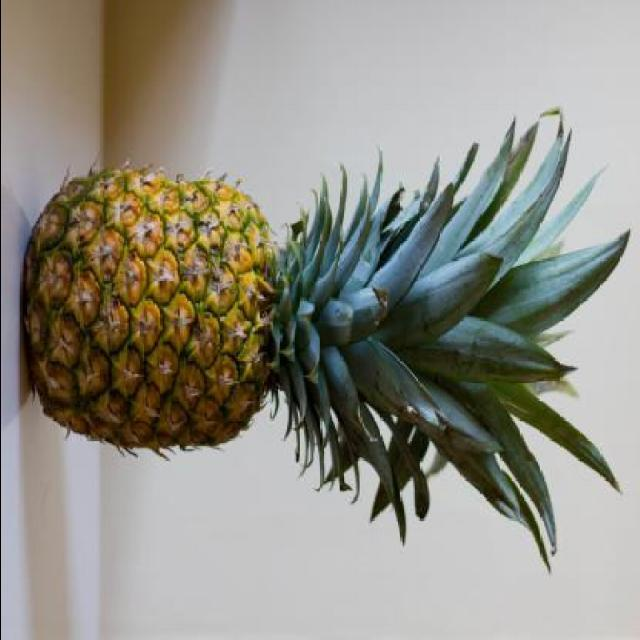Pineapple: (21, 103, 633, 577)
